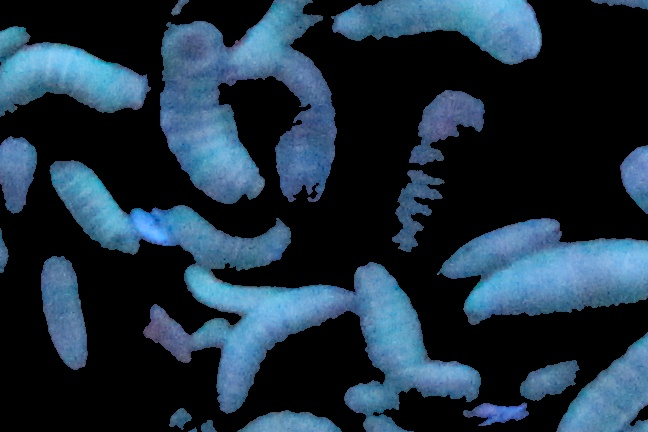larvae: (159, 19, 264, 207), (217, 283, 357, 412), (393, 90, 487, 272), (463, 237, 648, 324), (326, 1, 542, 64), (268, 48, 338, 202), (1, 43, 148, 114), (554, 336, 648, 432), (48, 157, 141, 254), (353, 263, 429, 366), (170, 205, 292, 268), (230, 1, 320, 81), (350, 362, 482, 415), (440, 219, 562, 276), (38, 254, 90, 371), (181, 269, 288, 312), (234, 409, 349, 432)
